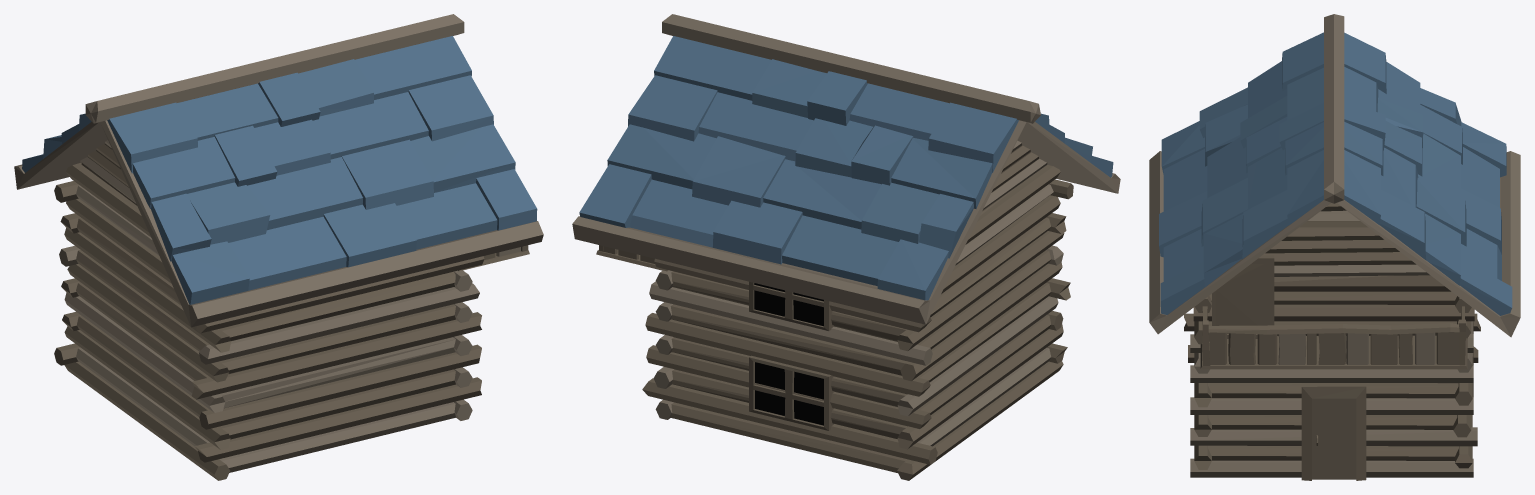
The model's file is House_A.glb.
3 views of the same model, side by side, from view 1: azimuth 30°, elevation 25°; view 2: azimuth 150°, elevation 25°; view 3: azimuth 270°, elevation 25° (orthographic). The views are drawn at different scales.
Parts seen in each view (by area): view 1: HOUSE1; view 2: HOUSE1; view 3: HOUSE1.
Part boxes in pixels (box(x1,y1,x2,y2)): HOUSE1: box(14, 14, 543, 480); HOUSE1: box(572, 14, 1120, 480); HOUSE1: box(1149, 14, 1520, 480).
Size of the model in its own units: 9.27 by 8.04 by 8.35.
1 material, 1 textured.
